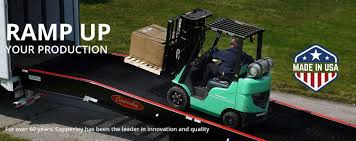Pallet Jack: (123, 7, 275, 128)
Yard Ramp: (19, 52, 353, 141)
